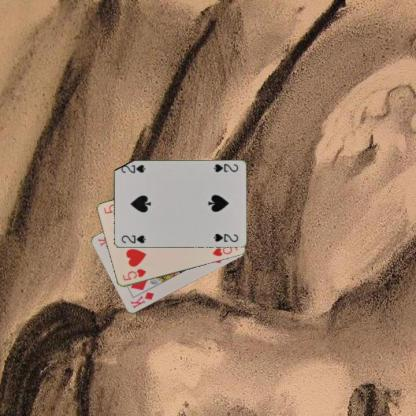2s: (211, 162, 239, 174), (118, 233, 147, 244)
5h: (120, 266, 147, 282)
Kd: (128, 290, 155, 310)
